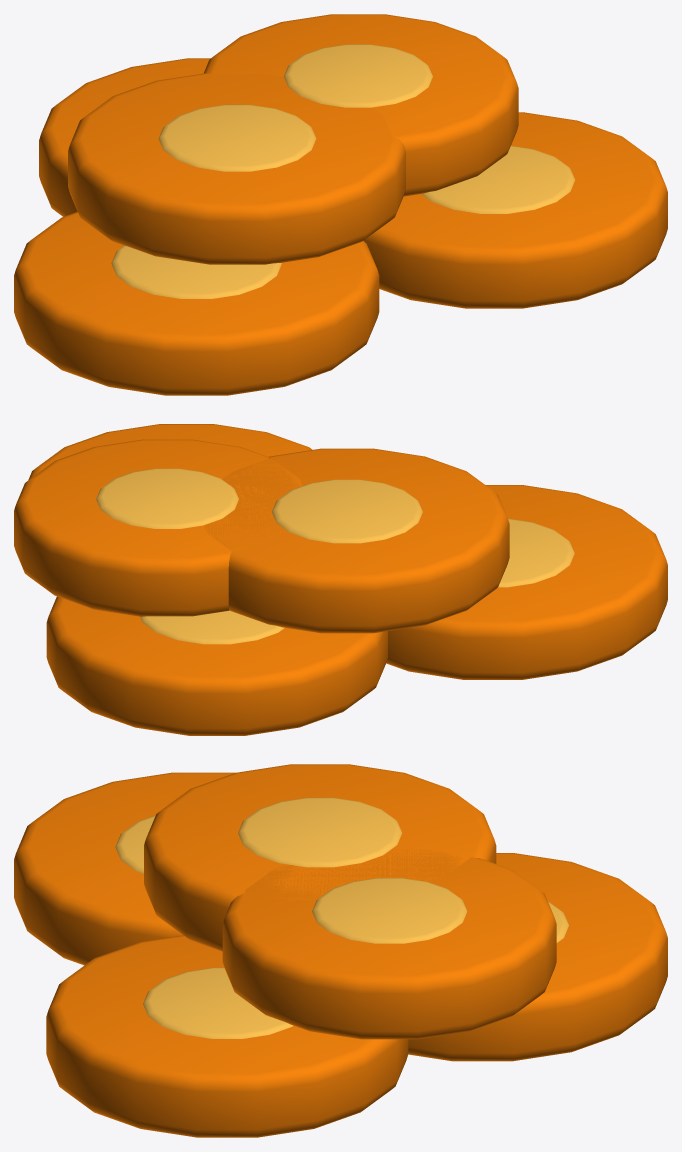
File: food_ingredient_carrot_chopped.gltf
3 renders of one model, top to bottom at view 1: azimuth 30°, elevation 25°; view 2: azimuth 150°, elevation 25°; view 3: azimuth 270°, elevation 25°, orthographic. The views are drawn at different scales.
Parts seen in each view (by area): view 1: CarrotCoinOuter_0; view 2: CarrotCoinOuter_0; view 3: CarrotCoinOuter_0.
Part boxes in pixels (bbox=[...]): CarrotCoinOuter_0: bbox=[14, 14, 667, 395]; CarrotCoinOuter_0: bbox=[14, 424, 667, 735]; CarrotCoinOuter_0: bbox=[14, 764, 667, 1137].
Size of the model in its own units: 0.3176 by 0.063 by 0.282.
